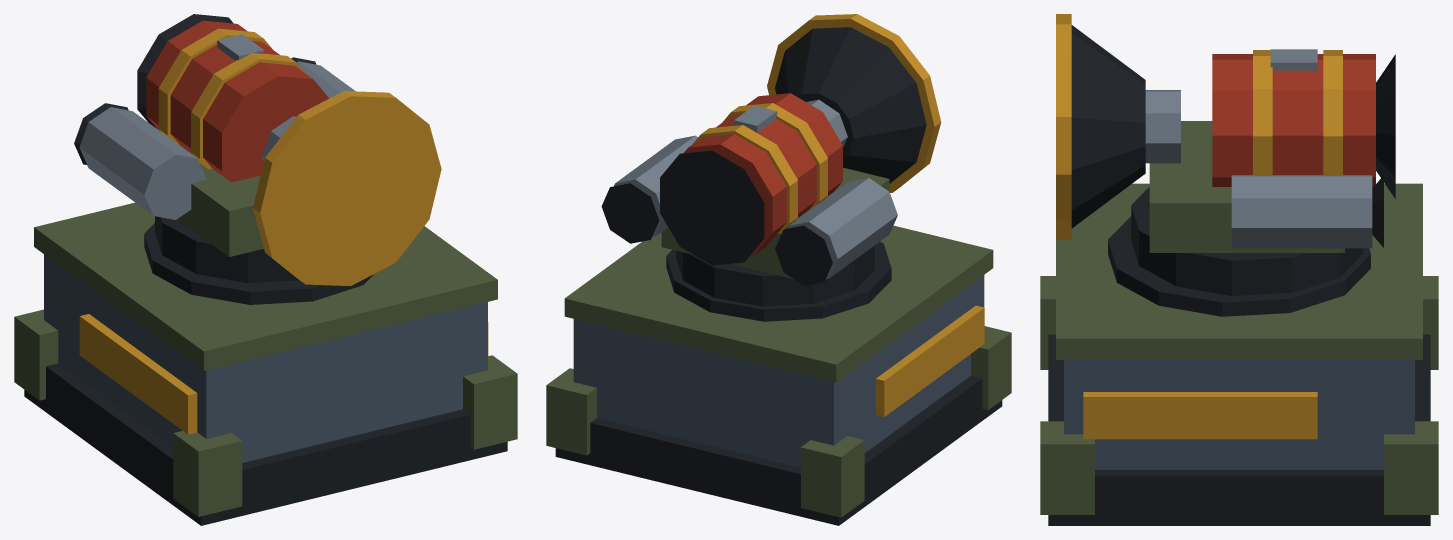
Rendered from tower_flamethrower.glb.
3 views of the same model, side by side, from view 1: azimuth 30°, elevation 25°; view 2: azimuth 150°, elevation 25°; view 3: azimuth 270°, elevation 25° (orthographic). The views are drawn at different scales.
Visible parts, largest first — view 1: base, head; view 2: base, head; view 3: base, head.
Part boxes in pixels (x1,y1,x2,y2): base: (14, 202, 517, 525); head: (74, 14, 441, 286); base: (546, 225, 1011, 525); head: (601, 14, 941, 306); base: (1040, 183, 1438, 525); head: (1056, 14, 1395, 295).
Size of the model in its own units: 1.02 by 1.19 by 1.02.
